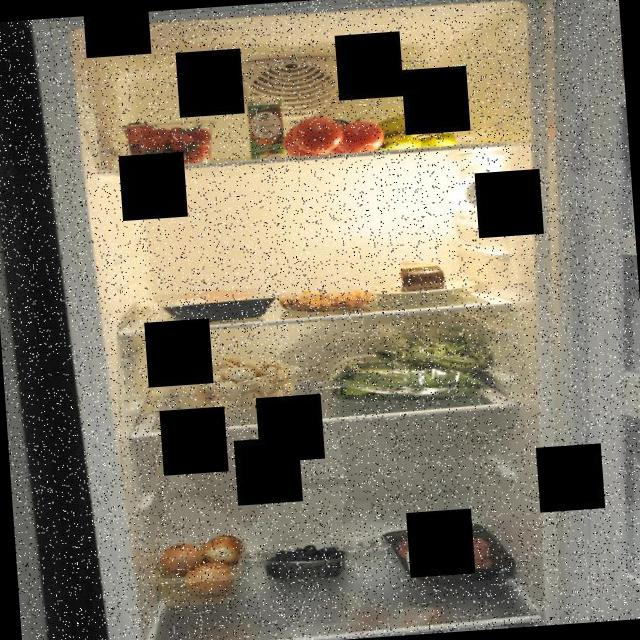Cebolla: (159, 533, 241, 598)
Champiñones: (177, 350, 305, 419)
Gambas/Langostinos: (276, 284, 379, 313)
Plátano: (376, 109, 462, 153)
Queso: (389, 254, 448, 297)
Tomate: (282, 105, 390, 162)
